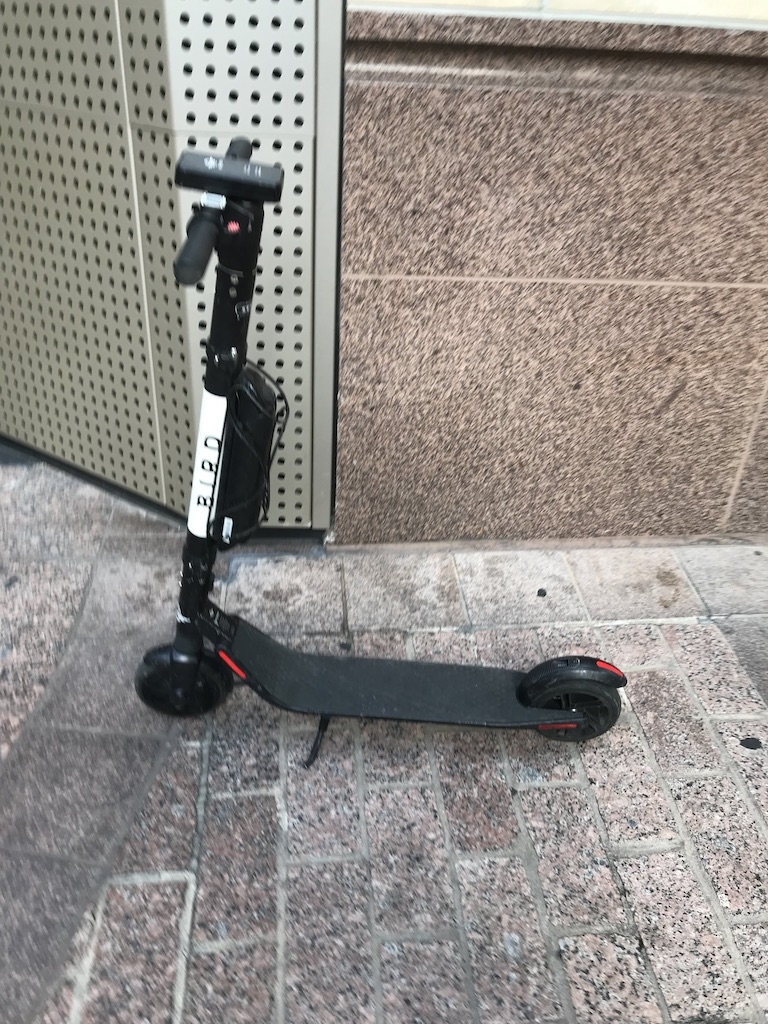scooter: (135, 140, 630, 745)
